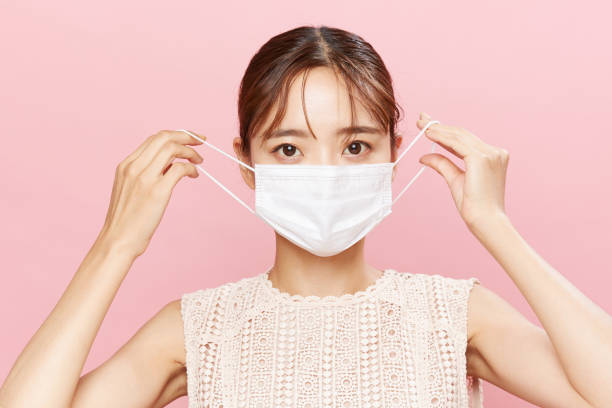with mask: (228, 26, 403, 260)
